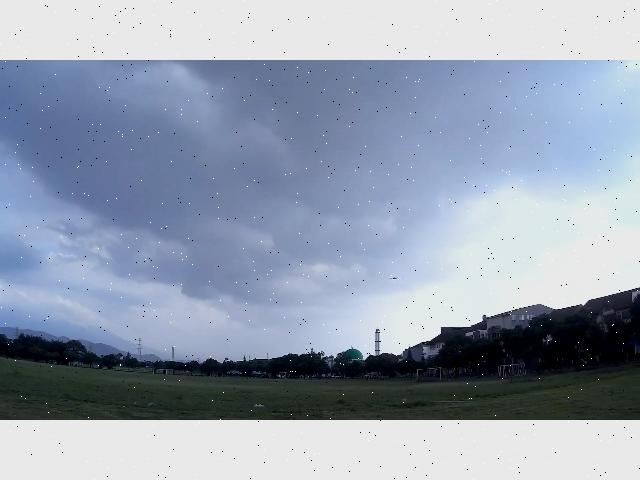Anti-Drone: (390, 277, 402, 279)
